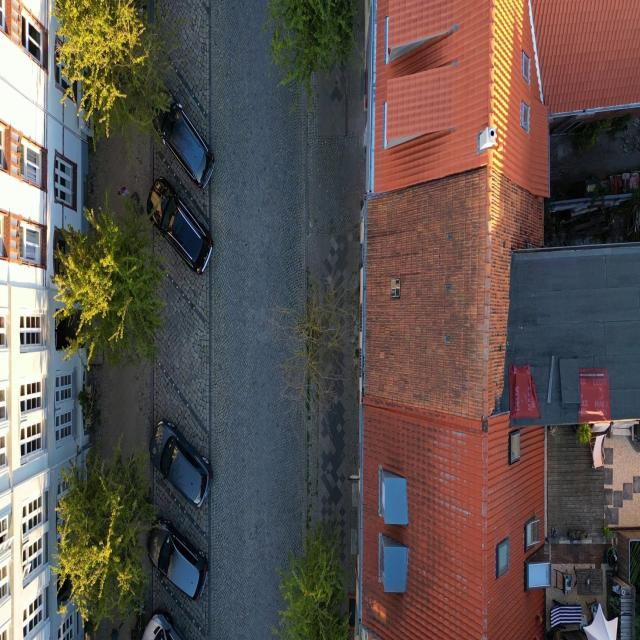Car: (145, 172, 218, 273), (152, 91, 217, 192), (144, 417, 210, 514), (142, 518, 209, 605)
